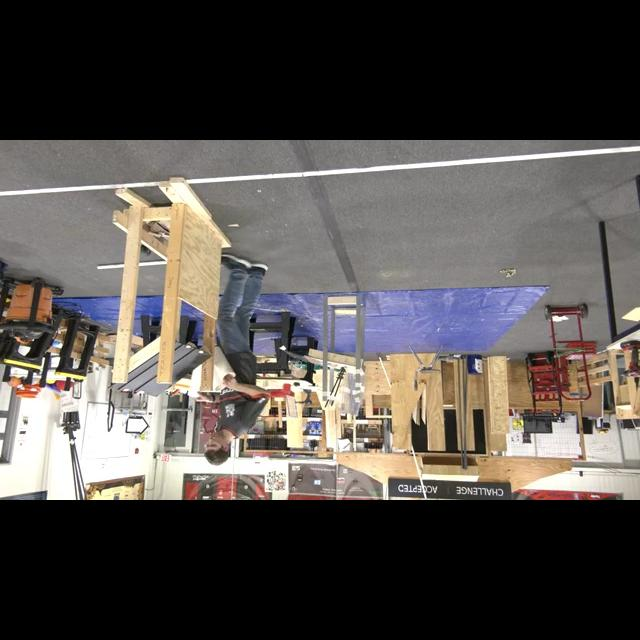CORAL: (212, 347, 234, 383), (188, 364, 202, 398), (213, 372, 224, 391)
